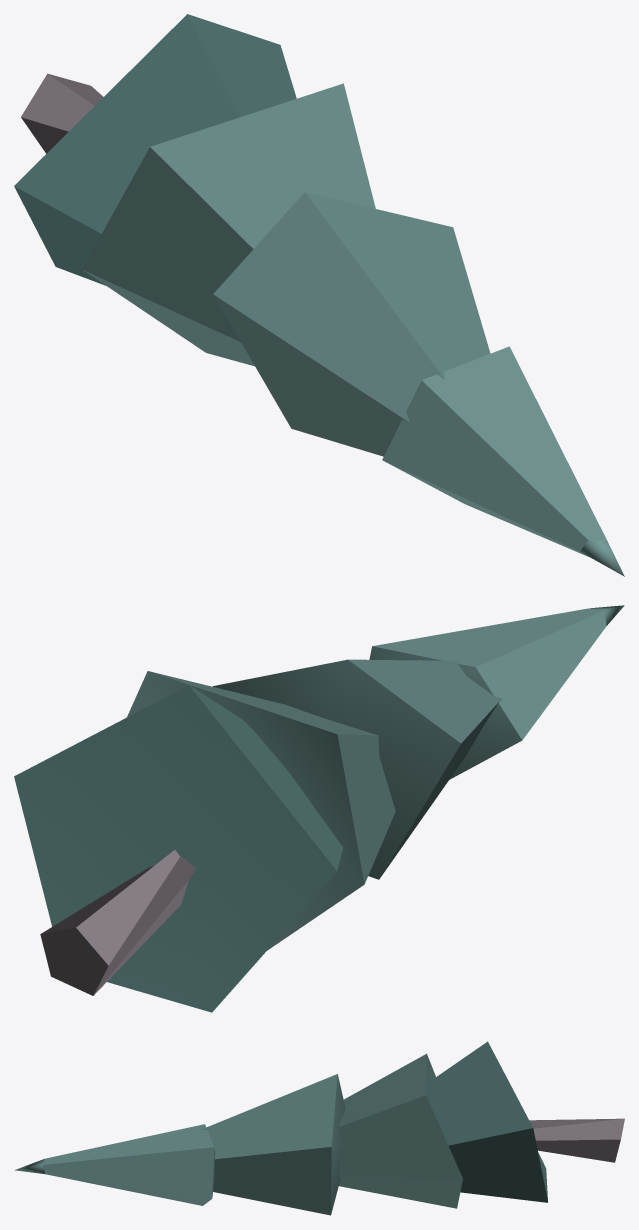
File: Mountain_Omgevallen boom_2.fbx
3 views of the same model, one above another, from view 1: azimuth 30°, elevation 25°; view 2: azimuth 150°, elevation 25°; view 3: azimuth 270°, elevation 25° (orthographic). The views are drawn at different scales.
Visible parts, largest first — view 1: polySurface1395; view 2: polySurface1395; view 3: polySurface1395.
Part boxes in pixels (<box>): polySurface1395: <box>14,14,624,576</box>; polySurface1395: <box>14,605,624,1012</box>; polySurface1395: <box>14,1041,624,1215</box>.
Bounding box in the file's own units: 5.24 × 5.32 × 17.32.
